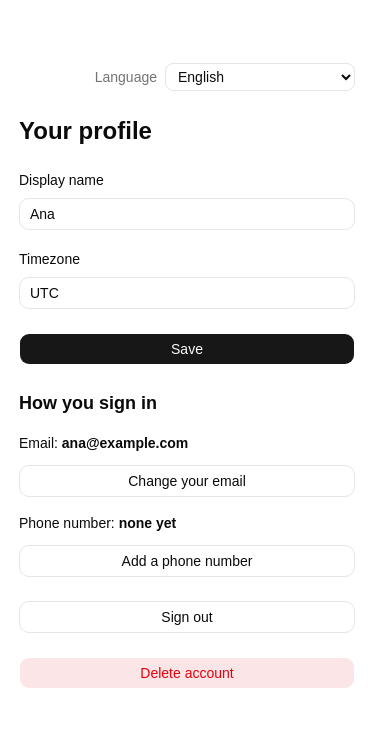
it: the contact form › adds a phone with a code texted to it
Click the button "Add a phone number" at (187, 561), box [19,545,355,577]
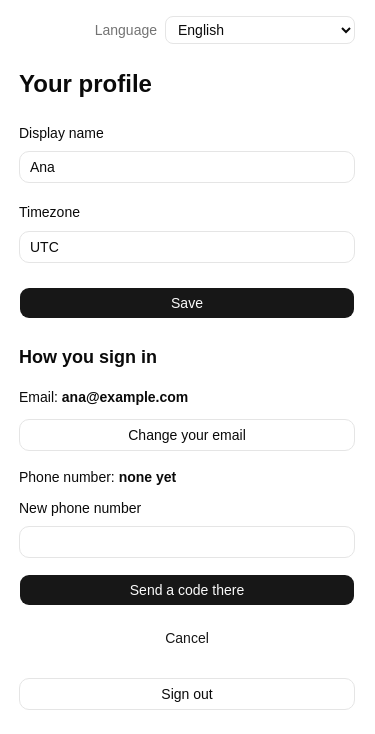
Type "+1 415 555 2671" into the field labelled "New phone number" at (187, 542), box [19,526,355,558]
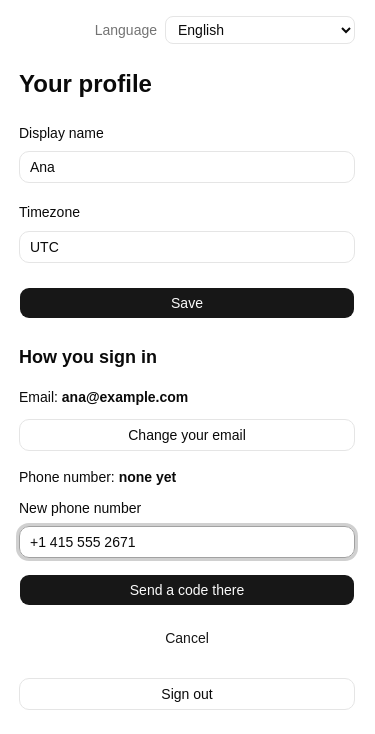
Click the button "Send a code there" at (187, 590), box [19,574,355,606]
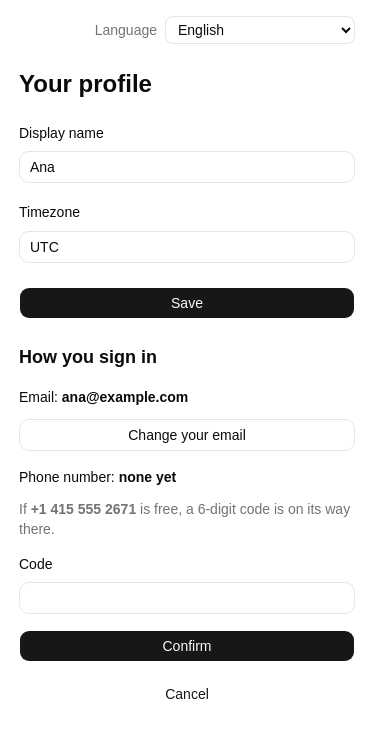
Type "123456" into the field labelled "Code" at (187, 598), box [19,582,355,614]
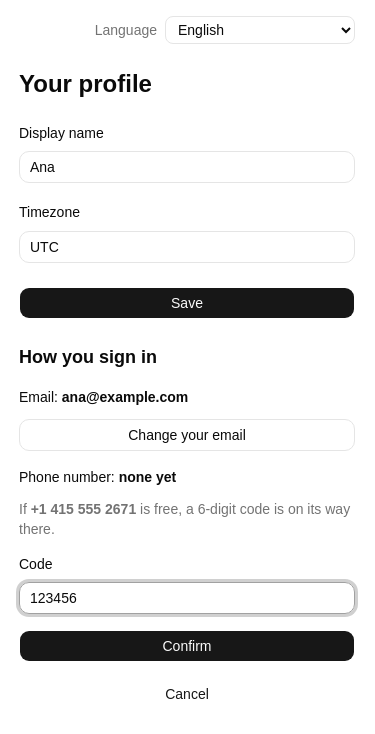
Click the button "Confirm" at (187, 646), box [19,630,355,662]
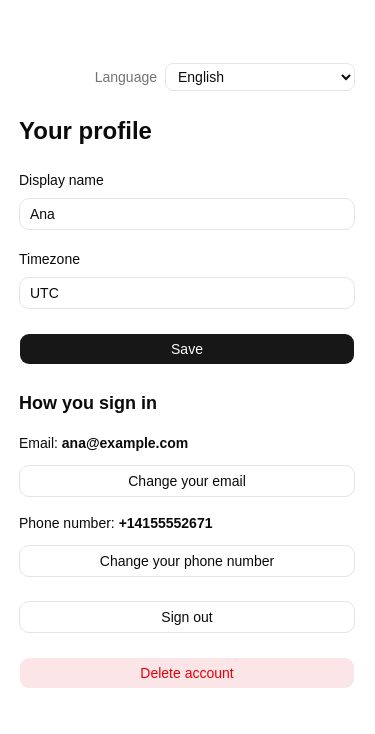
Result: the text "+14155552671" is shown at [119,515,212,531]
